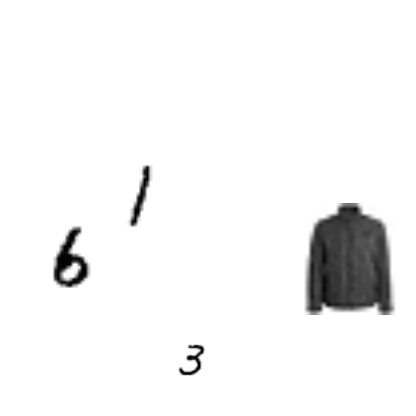1: (98, 154, 182, 238)
3: (172, 339, 214, 381)
6: (27, 218, 111, 302)
Coat: (294, 203, 406, 315)
